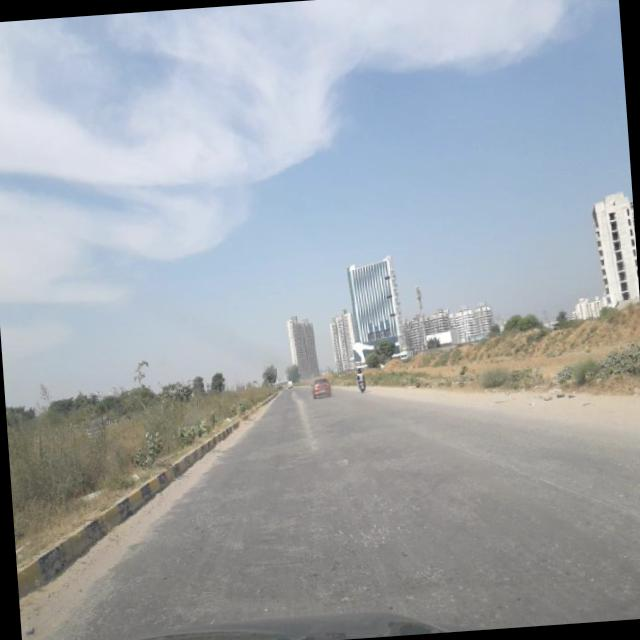crack: (449, 420, 640, 599)
